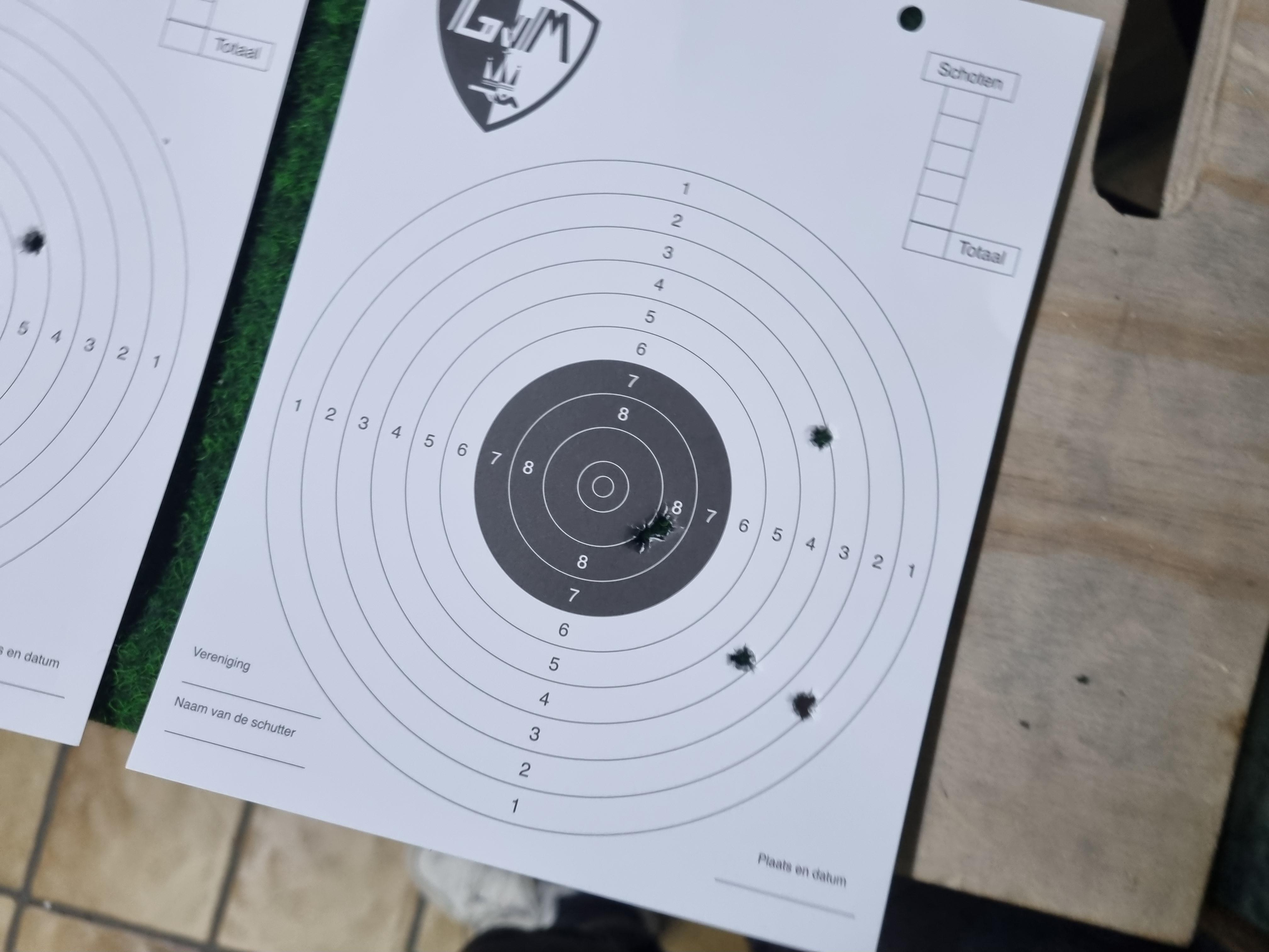hole: (546, 488, 600, 514), (306, 590, 352, 614), (369, 545, 413, 569), (530, 468, 571, 488), (667, 606, 703, 625)
